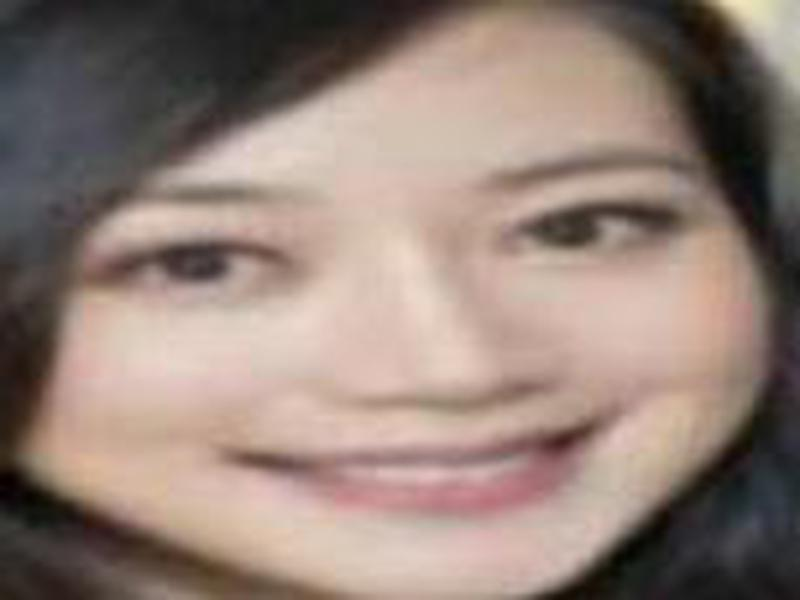without_mask: (16, 53, 766, 600)
